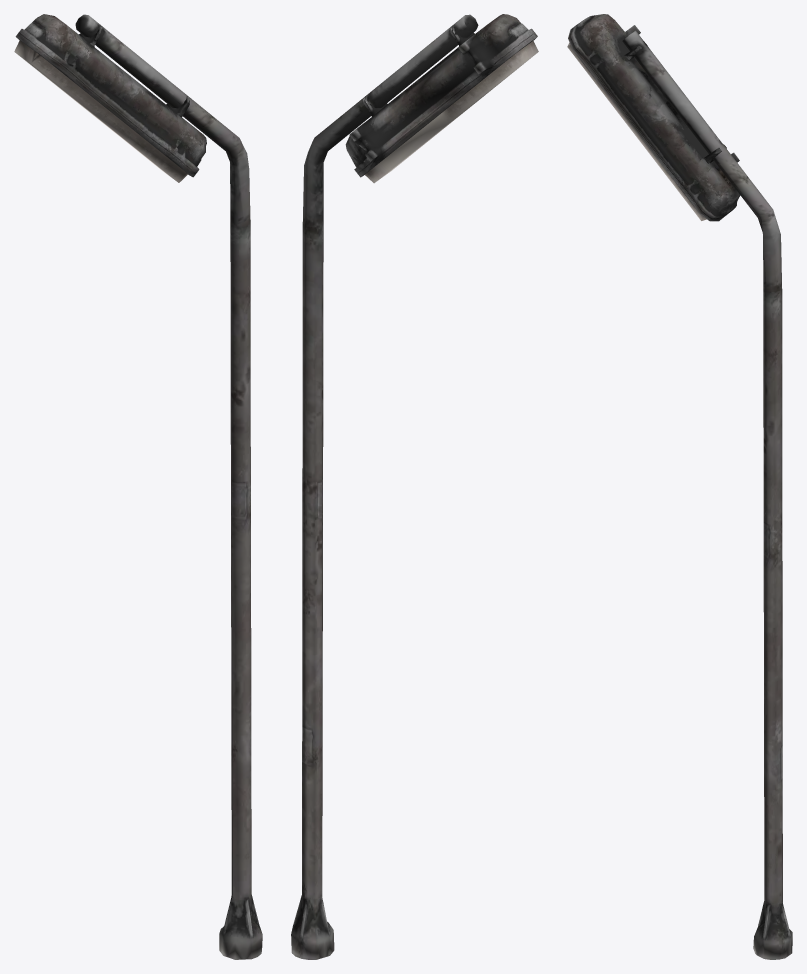
File: plight.fluorescent.pole.cold.glb
3 views of the same model, side by side, from view 1: azimuth 30°, elevation 25°; view 2: azimuth 150°, elevation 25°; view 3: azimuth 330°, elevation 25° (orthographic). The views are drawn at different scales.
Visible parts, largest first — view 1: mesh (plight pole); view 2: mesh (plight pole); view 3: mesh (plight pole).
Boxes of the visible parts, bbox=[...] form: mesh (plight pole): bbox=[14, 14, 262, 959]; mesh (plight pole): bbox=[291, 14, 538, 959]; mesh (plight pole): bbox=[567, 14, 792, 959].
Size of the model in its own units: 0.8545 by 3.37 by 0.1983.
Materials: 1 (1 with a texture image).
